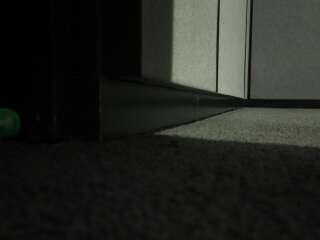Lime: (0, 108, 22, 139)
